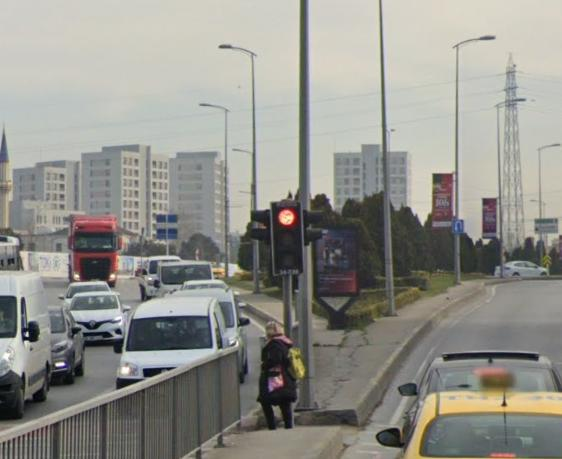redlight: (269, 203, 308, 271)
